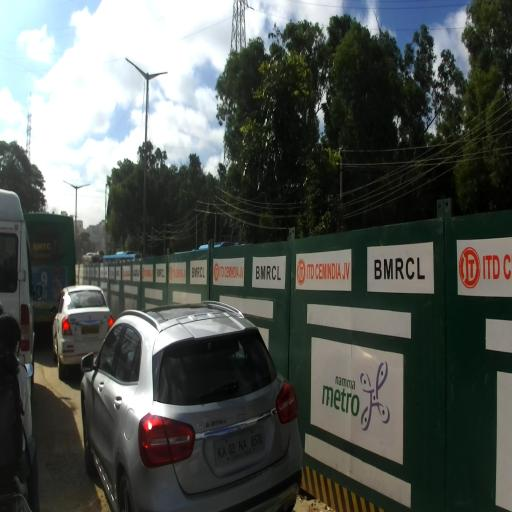street_light_0: (125, 58, 149, 82), (147, 71, 168, 83), (63, 180, 77, 190), (76, 184, 90, 190)
